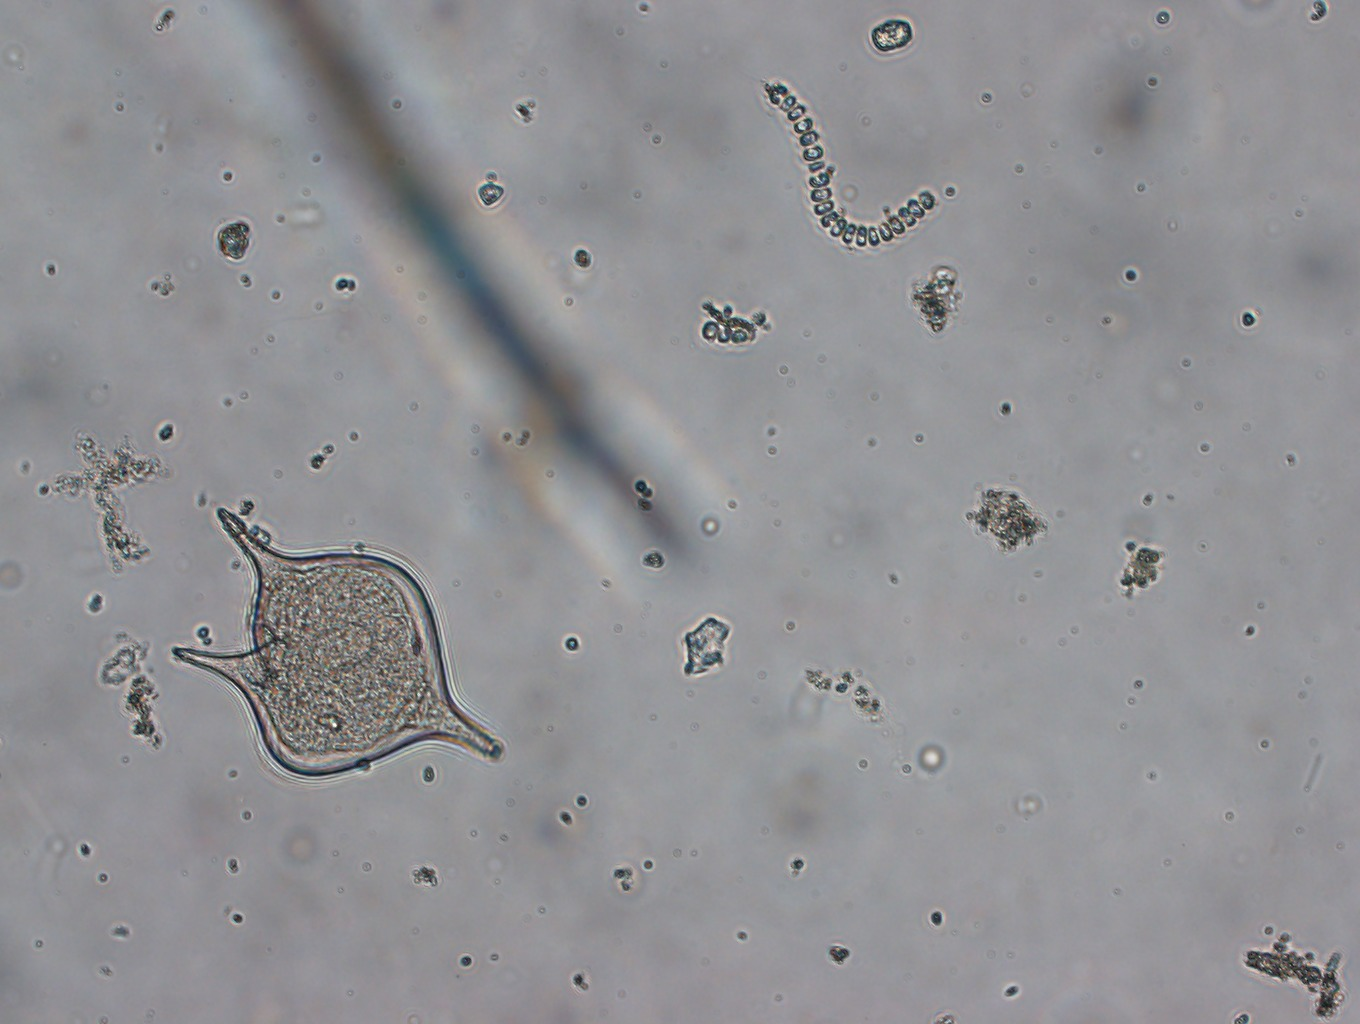ceratium furca: (186, 493, 515, 790)
skeletonema: (755, 70, 948, 256)
